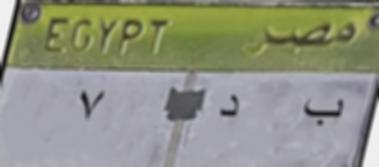7: (70, 82, 109, 126)
baa: (298, 90, 350, 132)
daal: (218, 87, 243, 127)
